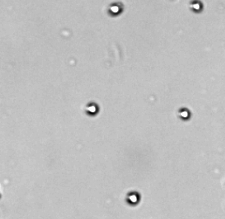Living Cell: (126, 191, 140, 205), (85, 102, 99, 115), (108, 3, 123, 15), (178, 108, 191, 120), (190, 1, 202, 12)
